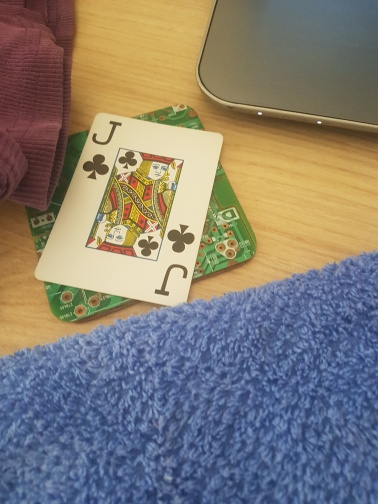jack: (34, 111, 223, 307)
